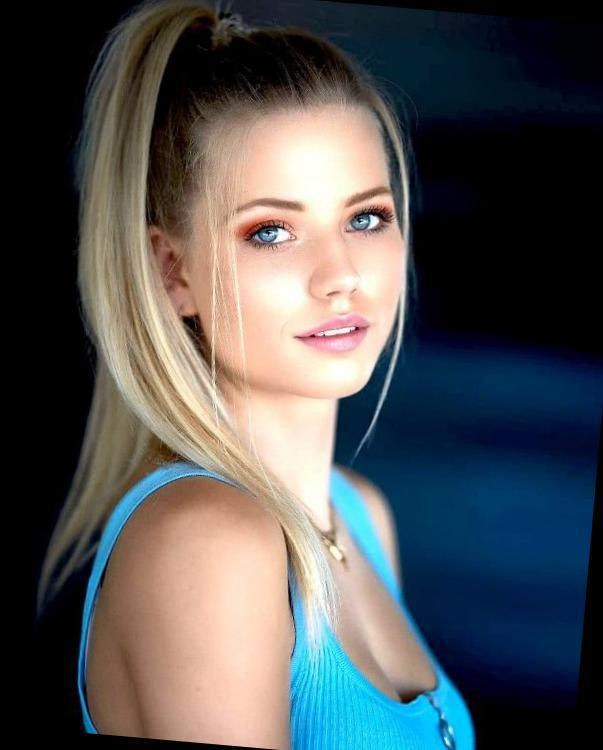Sober: (207, 104, 404, 389)
